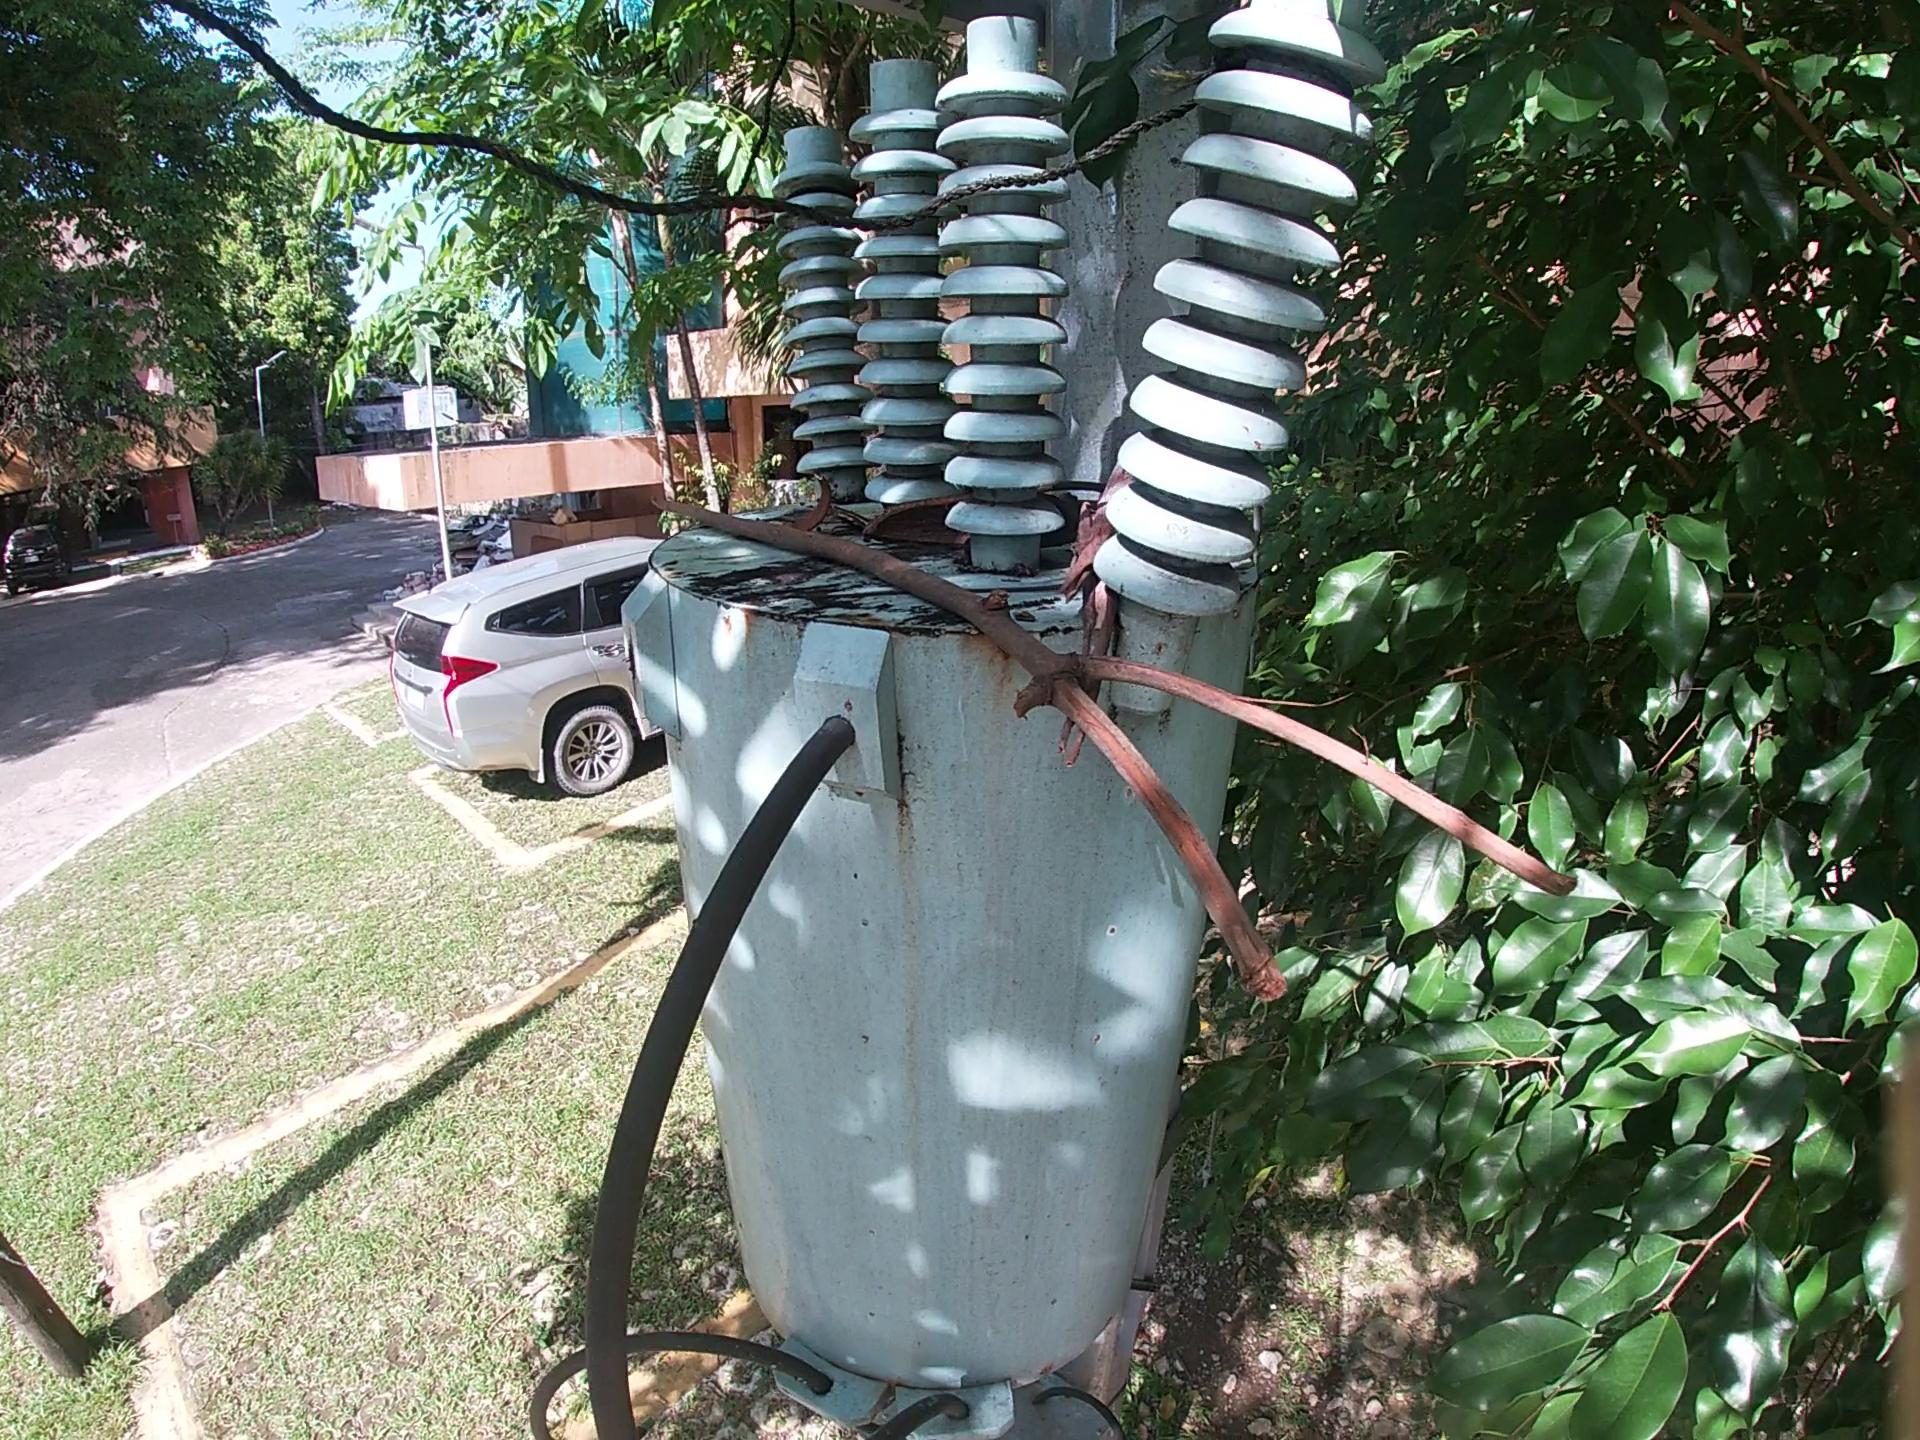mahogany fruit: (863, 504, 974, 546), (782, 479, 838, 525)
tree branch: (647, 486, 1615, 1021), (1039, 511, 1107, 765), (1027, 475, 1104, 493)
